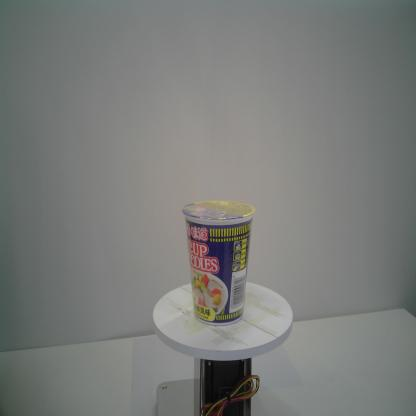Instant Noodles: (180, 199, 257, 328)
